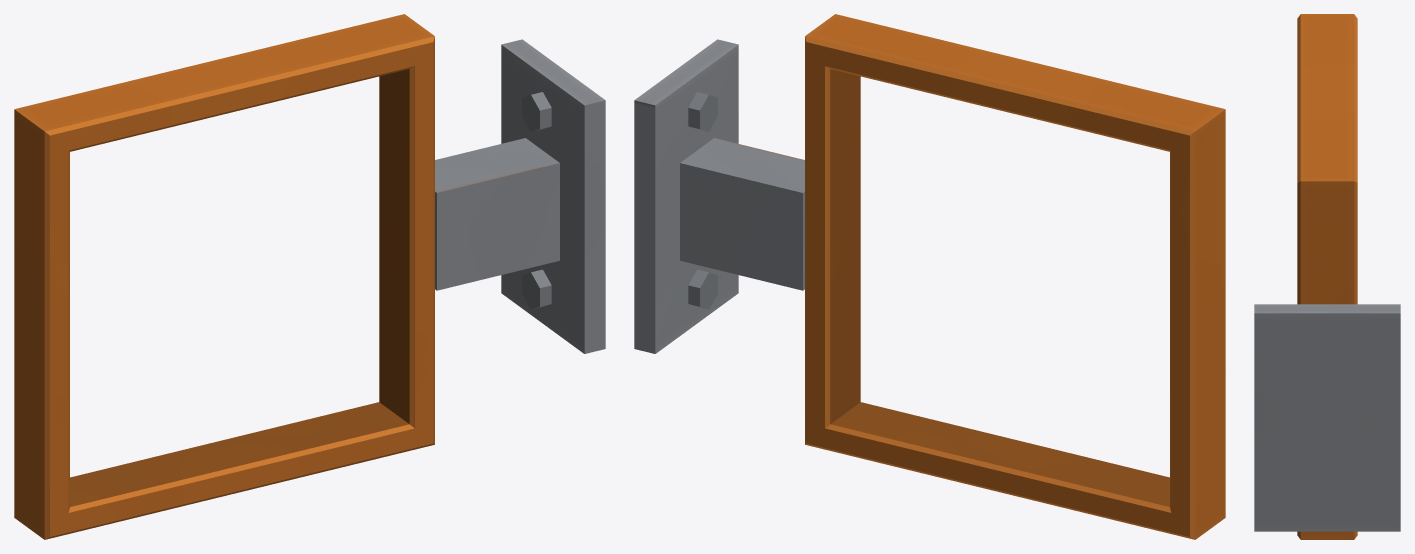
Rendered from clamp_z_east.obj.
The picture shows the model from 3 angles, left to right: view 1: azimuth 30°, elevation 25°; view 2: azimuth 150°, elevation 25°; view 3: azimuth 270°, elevation 25°; orthographic projection. The views are drawn at different scales.
Parts seen in each view (by area): view 1: clamp_strap, clamp_foot, clamp_leg, clamp_screws; view 2: clamp_strap, clamp_foot, clamp_leg, clamp_screws; view 3: clamp_foot, clamp_strap.
Boxes of the visible parts, x1=… form: clamp_strap: x1=14, y1=14, x2=434, y2=539; clamp_foot: x1=501, y1=39, x2=605, y2=353; clamp_leg: x1=435, y1=138, x2=559, y2=290; clamp_screws: x1=522, y1=92, x2=551, y2=309; clamp_strap: x1=805, y1=14, x2=1225, y2=539; clamp_foot: x1=634, y1=39, x2=738, y2=353; clamp_leg: x1=680, y1=138, x2=804, y2=290; clamp_screws: x1=688, y1=92, x2=717, y2=309; clamp_foot: x1=1254, y1=304, x2=1400, y2=531; clamp_strap: x1=1297, y1=14, x2=1357, y2=539.
Bounding box in the file's own units: 0.7875 × 0.575 × 0.2125.
